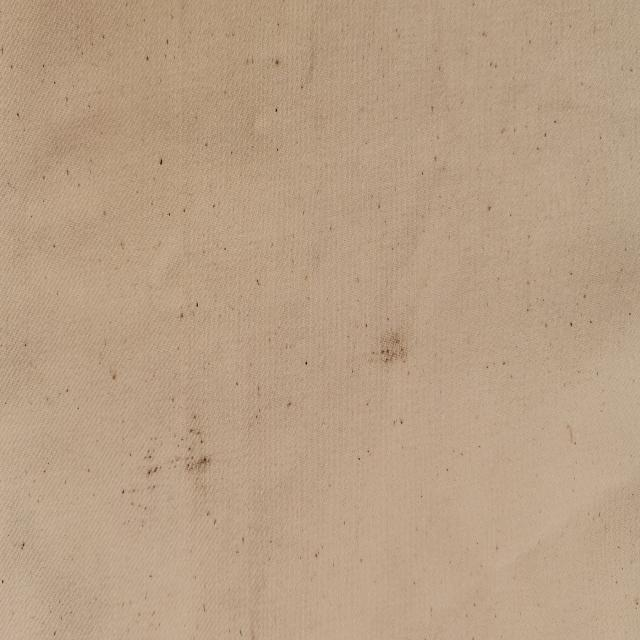taaaches: (372, 309, 417, 376), (180, 405, 210, 503), (135, 444, 165, 510)
